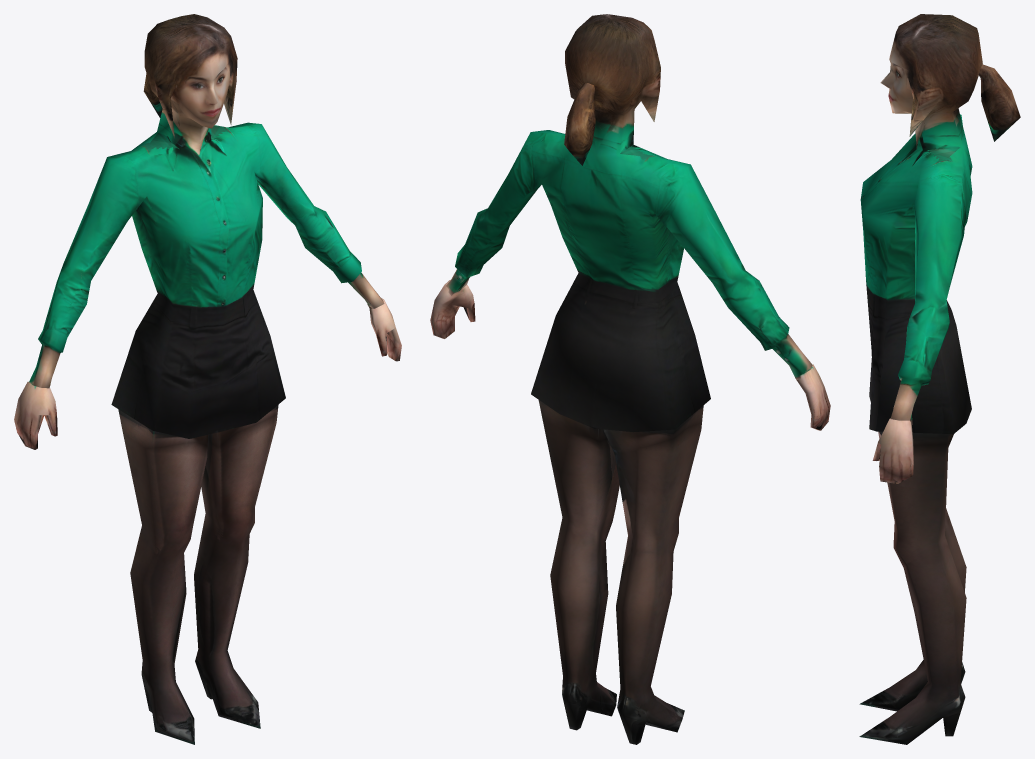
File: SarahGoldenPSX.fbx
The picture shows the model from 3 angles, left to right: view 1: azimuth 30°, elevation 25°; view 2: azimuth 150°, elevation 25°; view 3: azimuth 270°, elevation 25°; orthographic projection. The views are drawn at different scales.
Parts seen in each view (by area): view 1: Mesh_0; view 2: Mesh_0; view 3: Mesh_0.
Boxes of the visible parts, x1,y1,x2,y2 form: Mesh_0: [14, 14, 401, 744]; Mesh_0: [430, 14, 830, 744]; Mesh_0: [859, 14, 1020, 744].
Bounding box in the file's own units: 114 × 200 × 41.86.
1 material, 1 textured.
